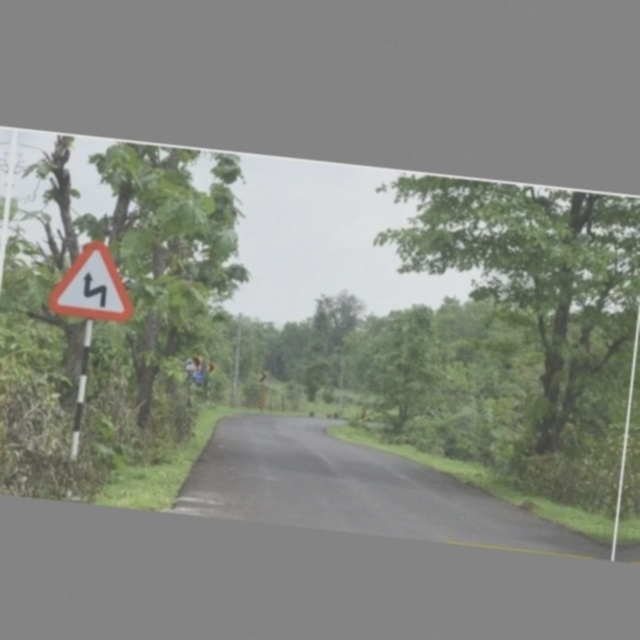Left_Reverse_Bend: (48, 235, 135, 321)
